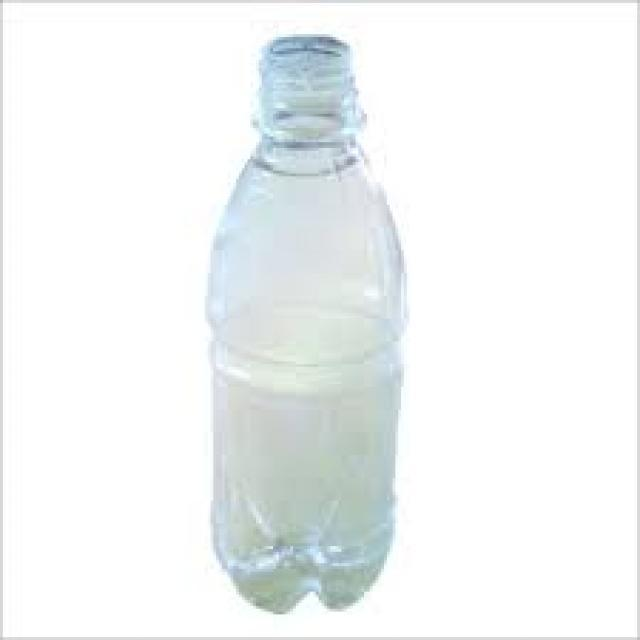Plastic: (208, 34, 404, 616)
